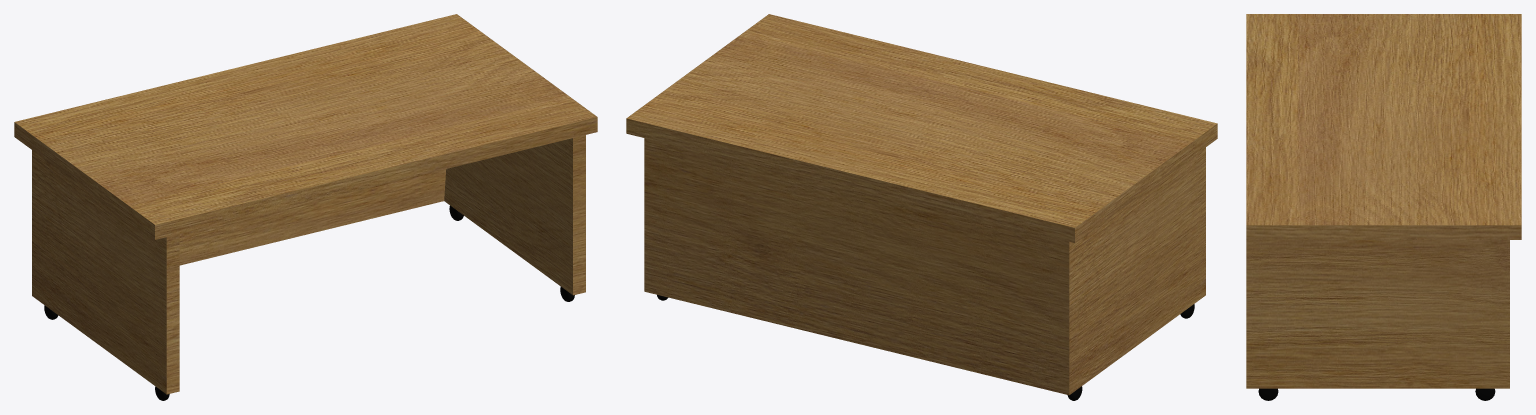
File: MESA DE MADEIRA AUDITORIO.fbx
3 renders of one model, left to right at view 1: azimuth 30°, elevation 25°; view 2: azimuth 150°, elevation 25°; view 3: azimuth 270°, elevation 25°, orthographic. The views are drawn at different scales.
Parts seen in each view (by area): view 1: Cube, Cylinder; view 2: Cube; view 3: Cube, Cylinder.
Part boxes in pixels (x1,y1,x2,y2): Cube: [14, 14, 597, 394]; Cylinder: [44, 205, 574, 400]; Cube: [626, 14, 1217, 395]; Cube: [1246, 14, 1521, 388]; Cylinder: [1258, 388, 1495, 400].
Bounding box in the file's own units: 1.22 × 0.4945 × 0.6711.
2 materials, 1 textured.
